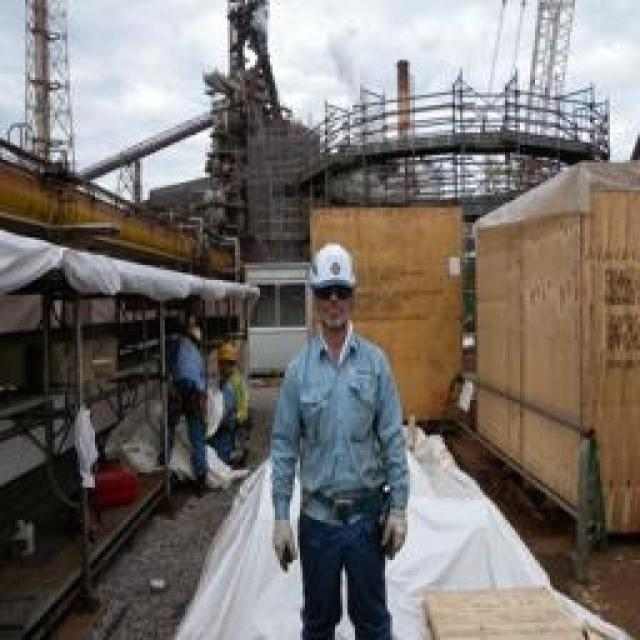Helmet: (255, 316, 417, 522), (290, 226, 394, 306), (166, 325, 212, 416), (204, 326, 248, 370), (182, 307, 216, 353)
Safety Vest: (213, 370, 265, 436)
